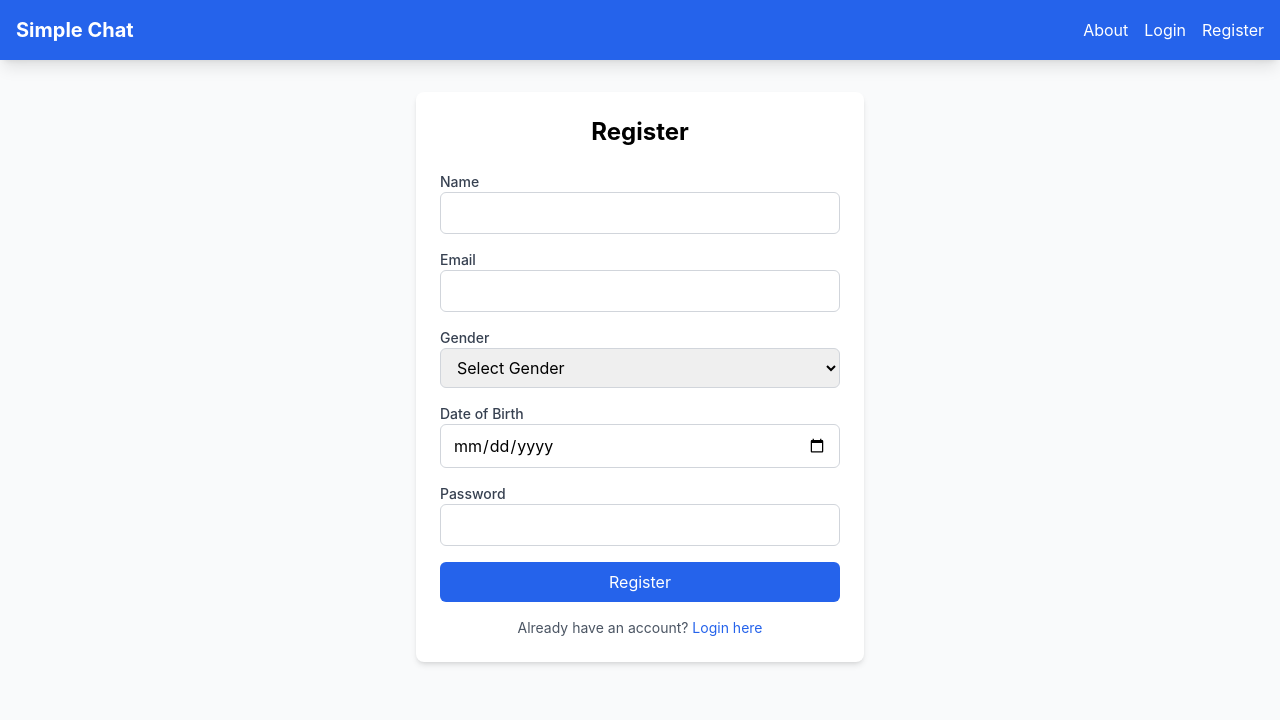
Test: Authentication Flow › Registration › should successfully register a new user
Type "John Doe" into the field named "name" at (640, 213), box left=440, top=192, right=840, bottom=234
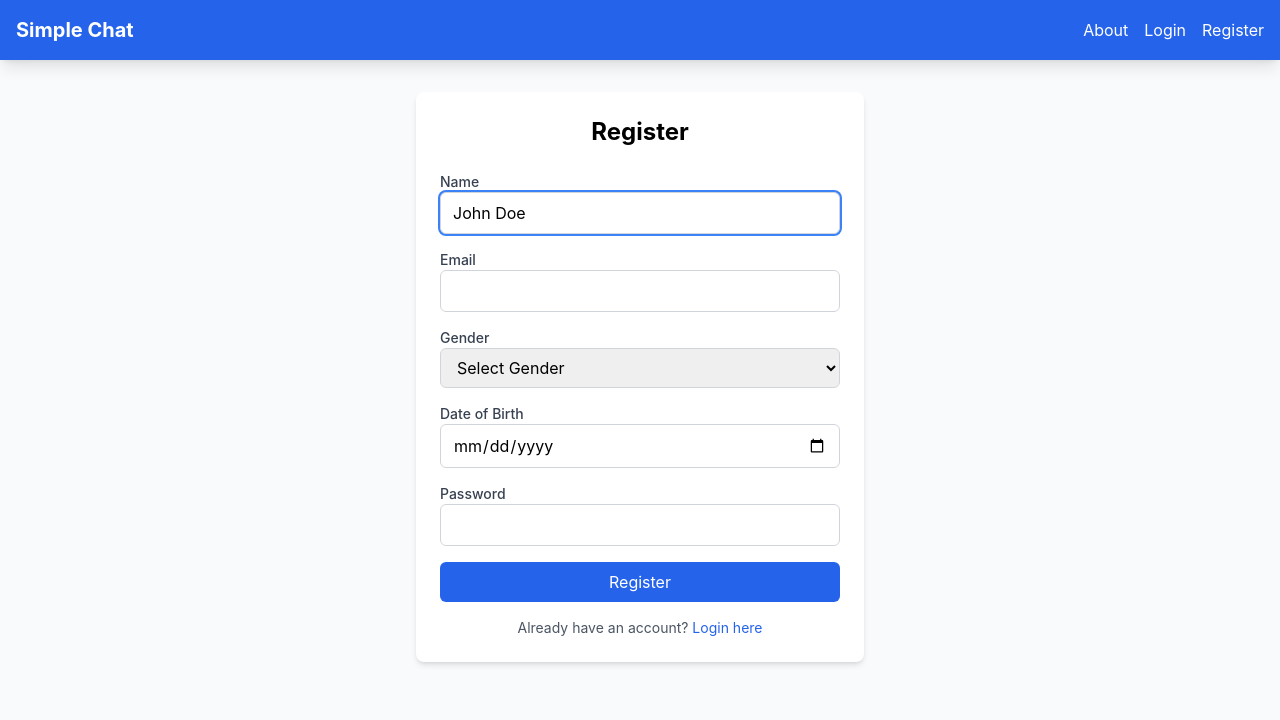
Type "john@example.com" into the field named "email" at (640, 291), box left=440, top=270, right=840, bottom=312
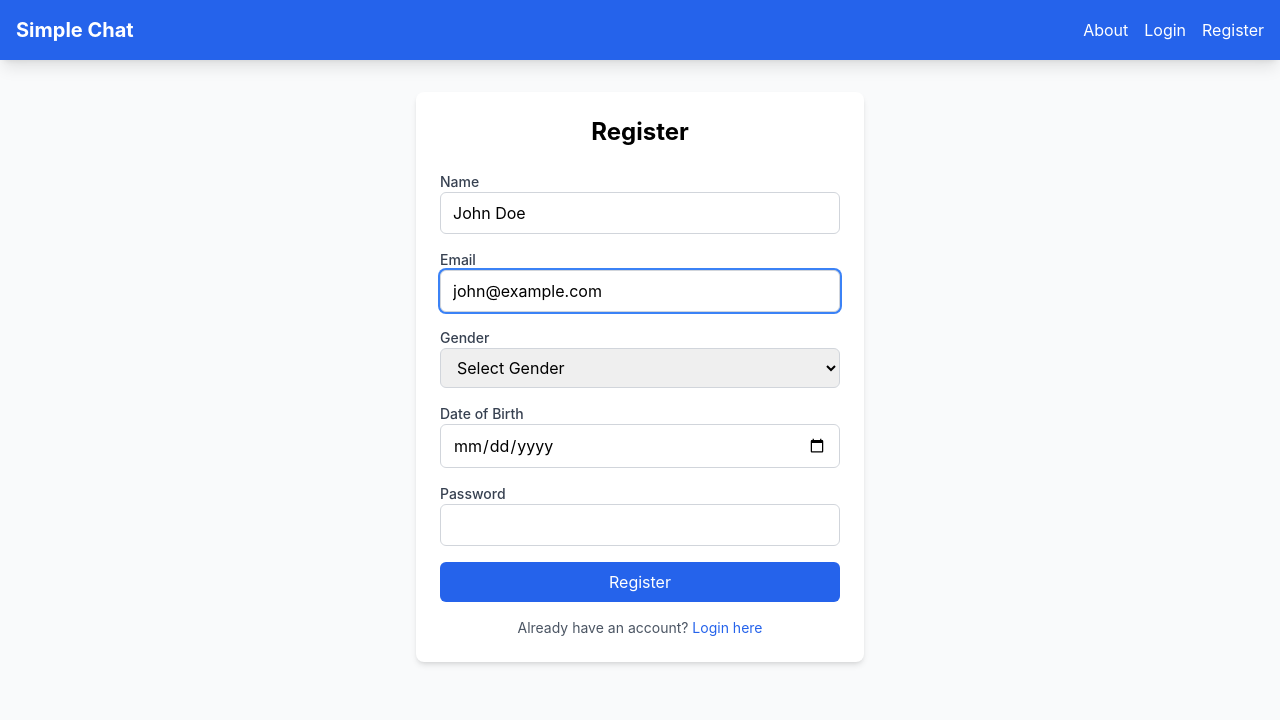
Select "Male" in the dropdown named "gender" at (640, 368), box left=440, top=348, right=840, bottom=388
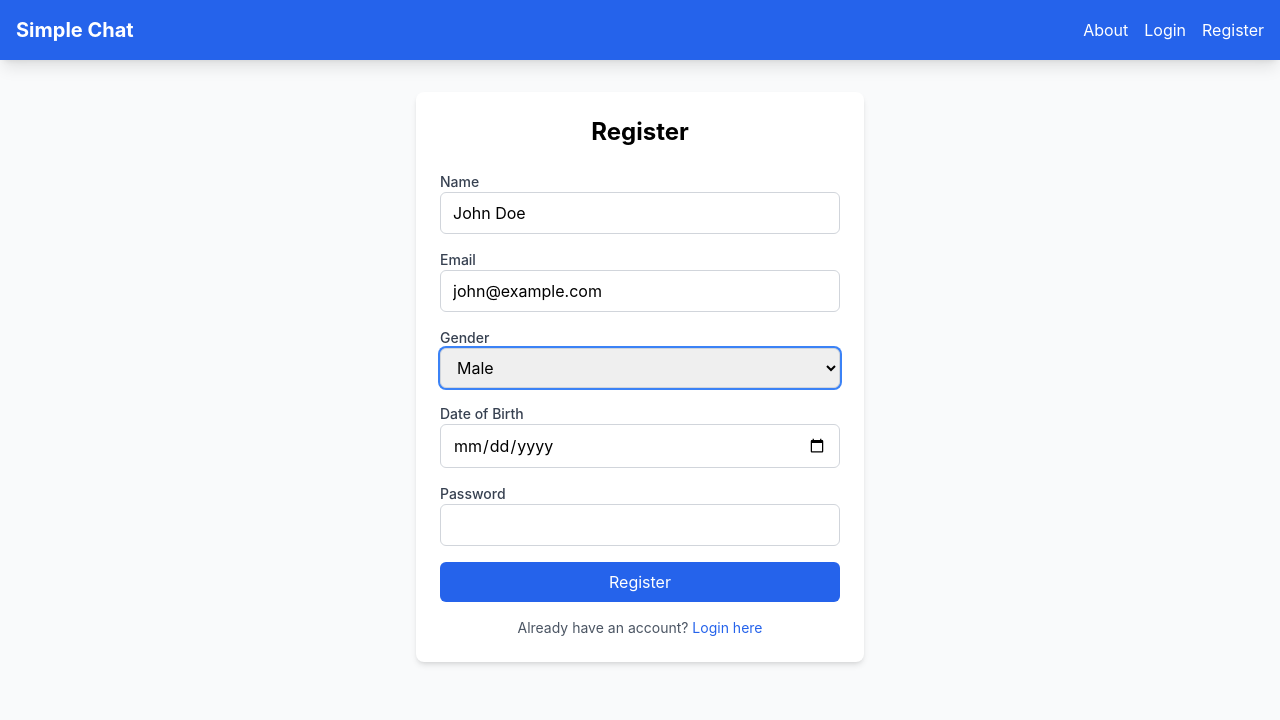
Type "1990-01-01" into the date field named "dateOfBirth" at (640, 446), box left=440, top=424, right=840, bottom=468
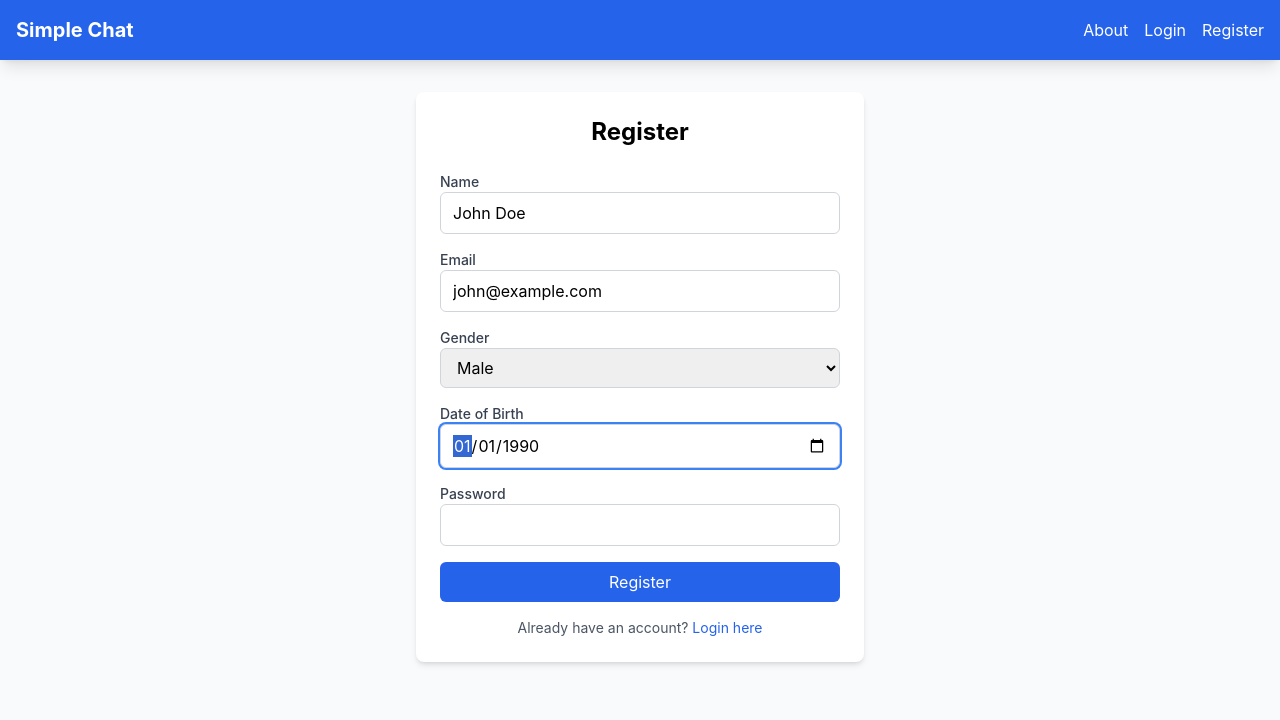
Type "password123" into the password field named "password" at (640, 525), box left=440, top=504, right=840, bottom=546
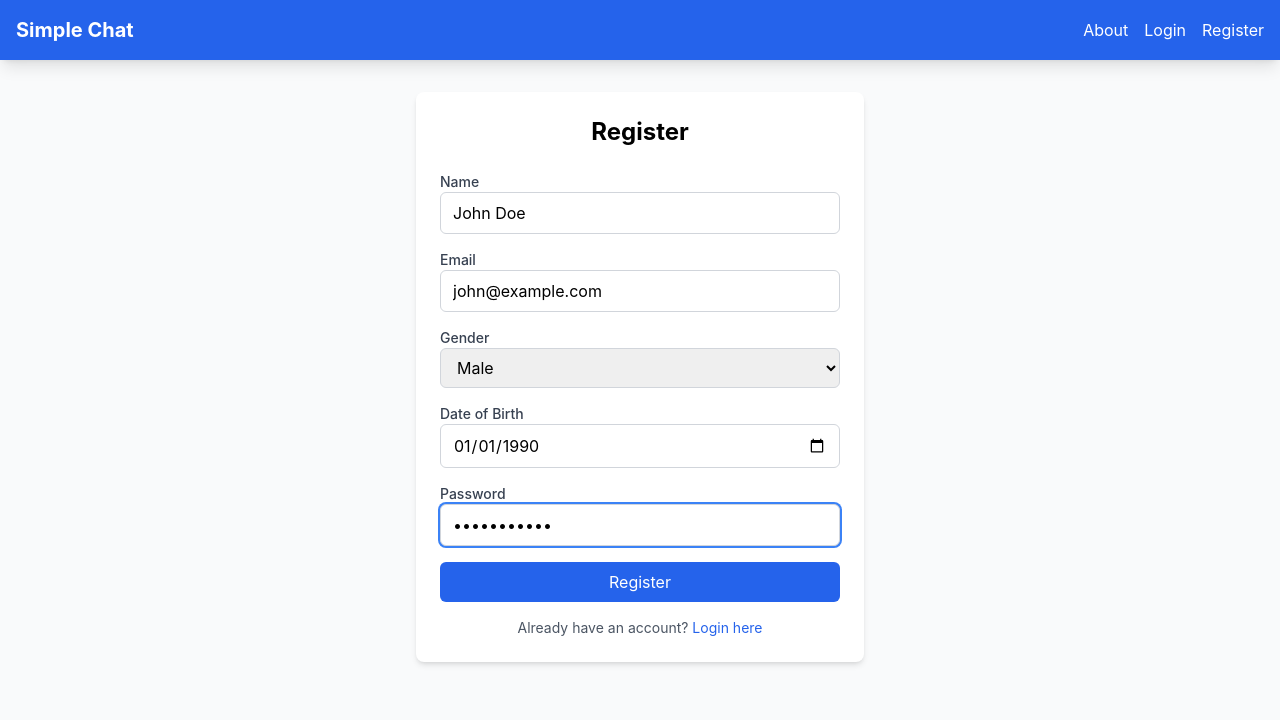
Click the submit button at (640, 582), box left=440, top=562, right=840, bottom=602
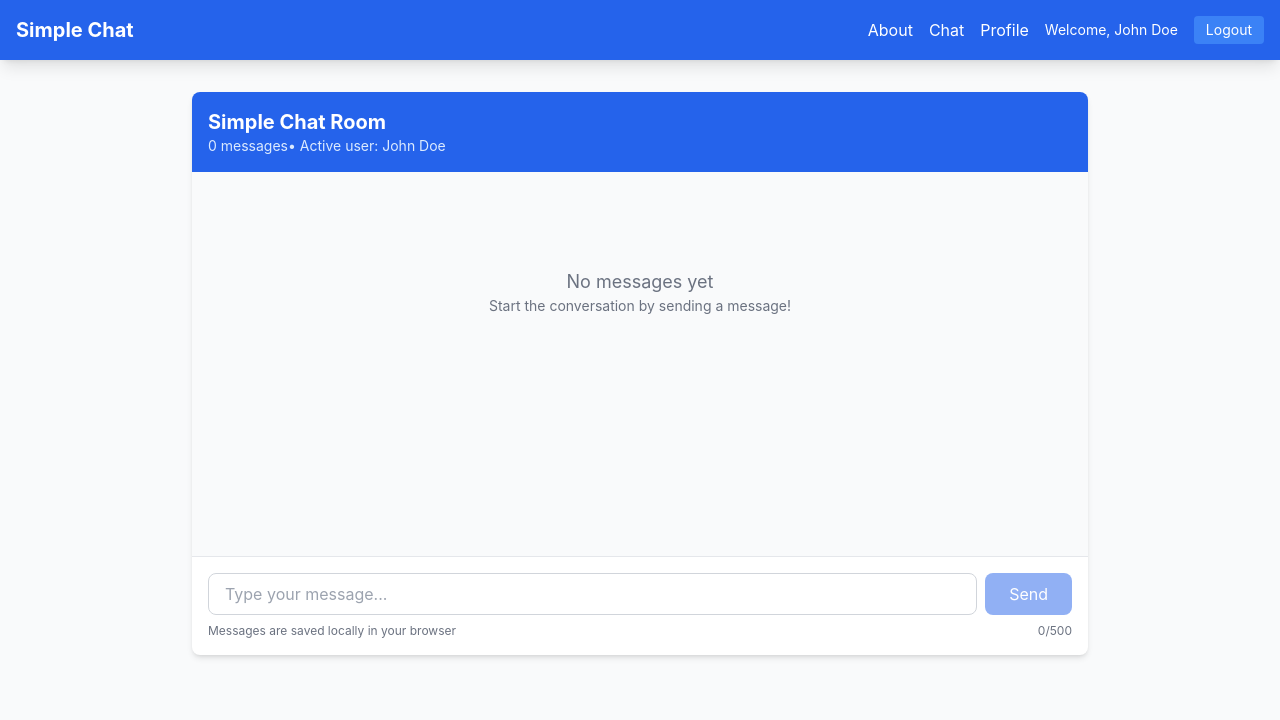
Expected: the heading "Simple Chat Room" is shown, left=208, top=110, right=386, bottom=134
